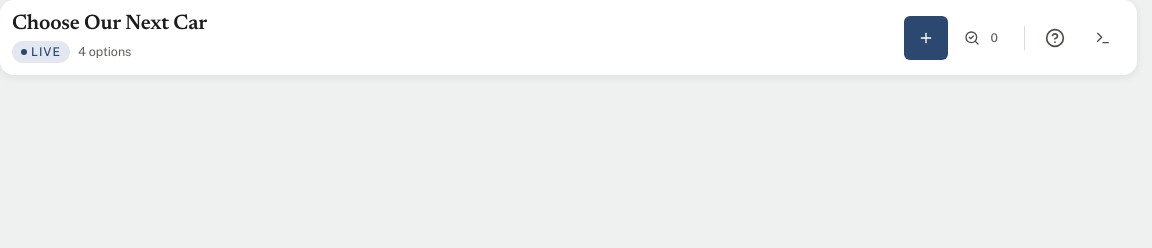
WorkspaceAppBar › create menu › offers all three create actions at narrow layout (ADR 0008: reachable in both modes)
Click the button with test id "workspace-app-bar-create-menu" at {"x": 926, "y": 38}, box [904,16,948,60]
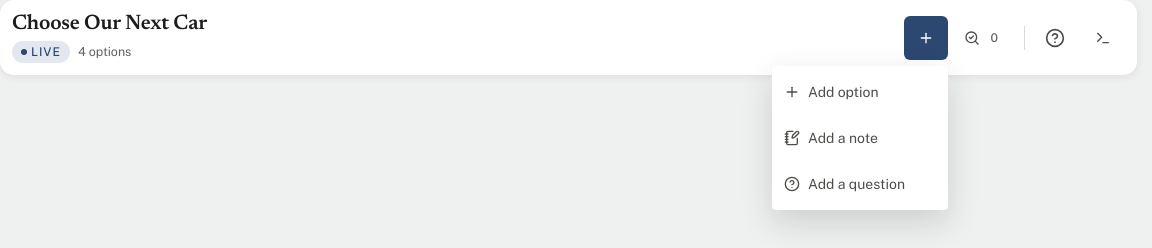
Expected: the menu is shown, [772,66,948,210]
Expected: the menu items read "Add option", "Add a note", "Add a question", in this order, [784,84,878,100]; [784,130,878,146]; [784,176,905,192]
